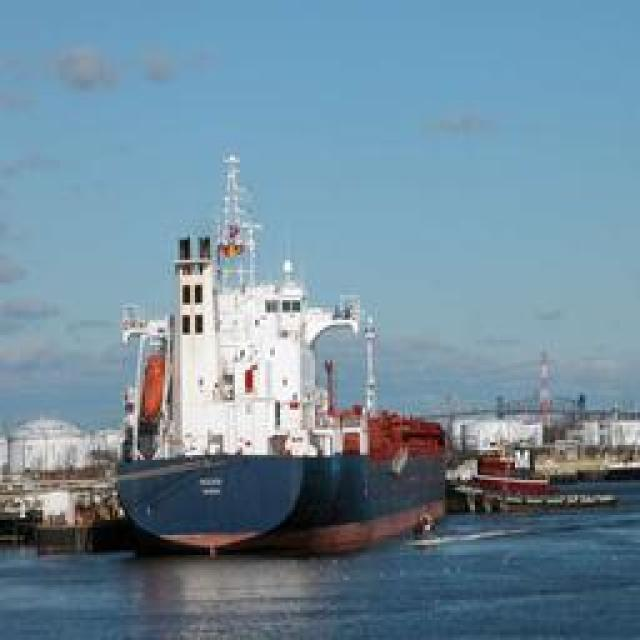ship2: (116, 152, 448, 560)
